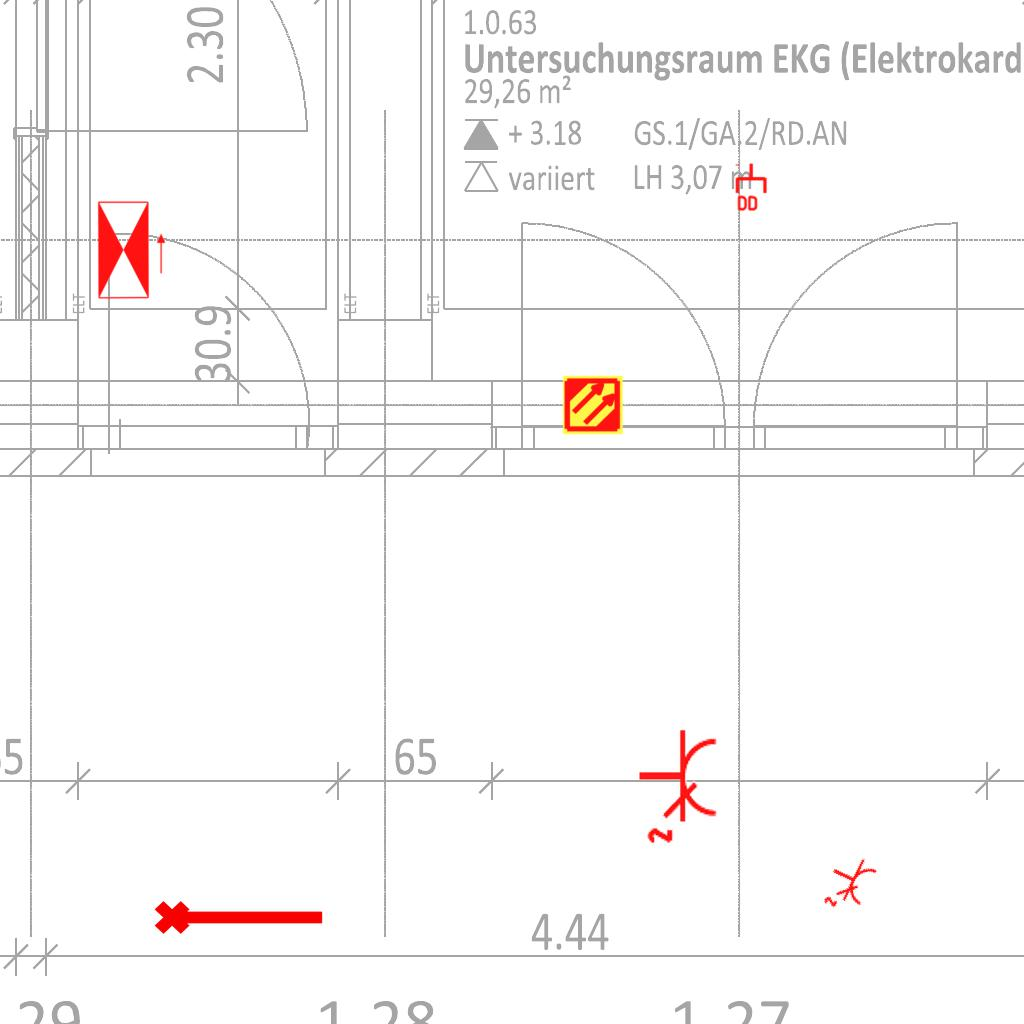ASR_Ansaugoeffnung: (152, 892, 328, 938)
ASR_Ansaugrauchmelder: (562, 374, 624, 436)
Datenanschluss_zweifach: (735, 162, 769, 213)
Fluchtwegpiktogramm: (95, 198, 168, 302)
Schukosteckdose_mehrfach: (633, 725, 721, 846), (816, 846, 882, 920)
